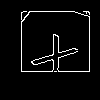X: (30, 25, 87, 81)
